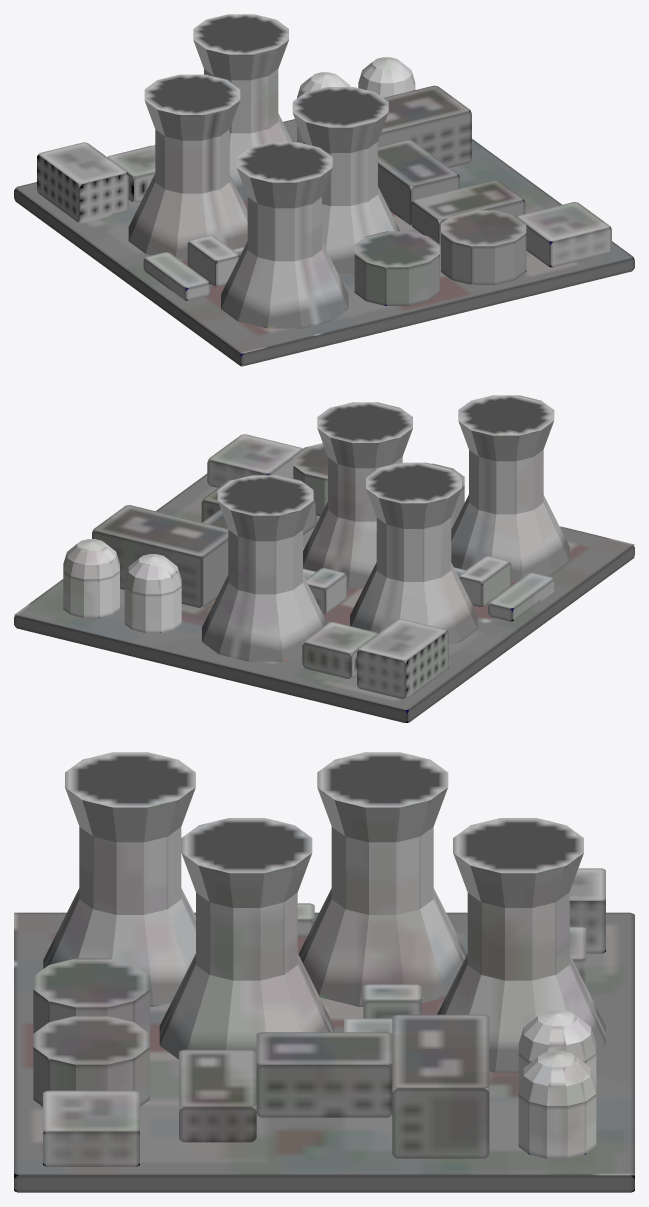
The model's file is nuclear.fbx.
3 renders of one model, top to bottom at view 1: azimuth 30°, elevation 25°; view 2: azimuth 150°, elevation 25°; view 3: azimuth 270°, elevation 25°, orthographic. The views are drawn at different scales.
Parts seen in each view (by area): view 1: mesh, cone, cone_2, cylinder_4, cylinder_5, mesh_6, cone_3, cone_7, cone_1, mesh_8, cone_5, mesh_11 (+13 smaller); view 2: mesh, mesh_8, cone_6, cone, cone_2, mesh_6, cone_7, cone_1, cone_5, cone_3, cylinder_1, cylinder (+14 smaller); view 3: mesh, mesh_8, cone_2, mesh_9, cone_4, cone_3, cone_1, cone_5, cone_7, cone, cylinder_5, cone_6 (+14 smaller).
Part boxes in pixels (x1,y1,x2,y2): mesh: (14,119,634,366); cone: (221,241,348,328); cone_2: (128,174,247,260); cylinder_4: (354,231,439,305); cylinder_5: (441,210,526,284); mesh_6: (37,142,128,223); cone_3: (144,74,240,140); cone_7: (193,14,288,80); cone_1: (237,142,332,208); mesh_8: (378,85,471,167); cone_5: (292,87,388,152); mesh_11: (517,202,611,267); mesh: (14,473,634,722); mesh_8: (92,505,228,607); cone_6: (202,575,327,661); cone: (451,495,569,581); cone_2: (350,562,477,644); mesh_6: (357,619,448,699); cone_7: (217,475,313,541); cone_1: (458,395,554,461); cone_5: (317,402,412,468); cone_3: (366,462,461,528); cylinder_1: (376,517,451,581); cylinder: (469,450,543,514); mesh: (14,912,634,1192); mesh_8: (392,1014,489,1158); cone_2: (298,888,466,1006); mesh_9: (256,1032,392,1117); cone_4: (159,953,333,1059); cone_3: (317,752,448,842); cone_1: (65,752,195,842); cone_5: (181,818,312,907); cone_7: (453,818,583,907); cone: (43,888,195,1006); cylinder_5: (33,1015,149,1106); cone_6: (437,954,605,1072).
Bounding box in the file's own units: 1000 × 369 × 1000.
1 material, 1 textured.
